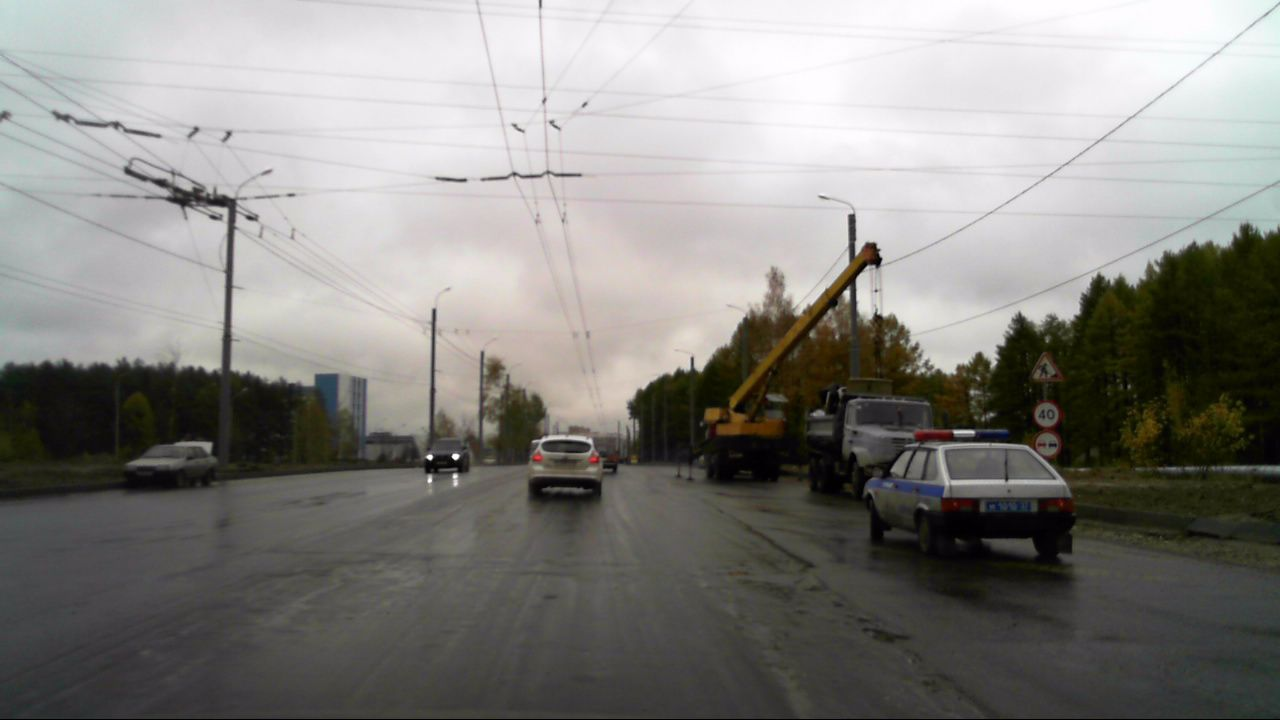speed_warning_40: (1033, 400, 1060, 426)
